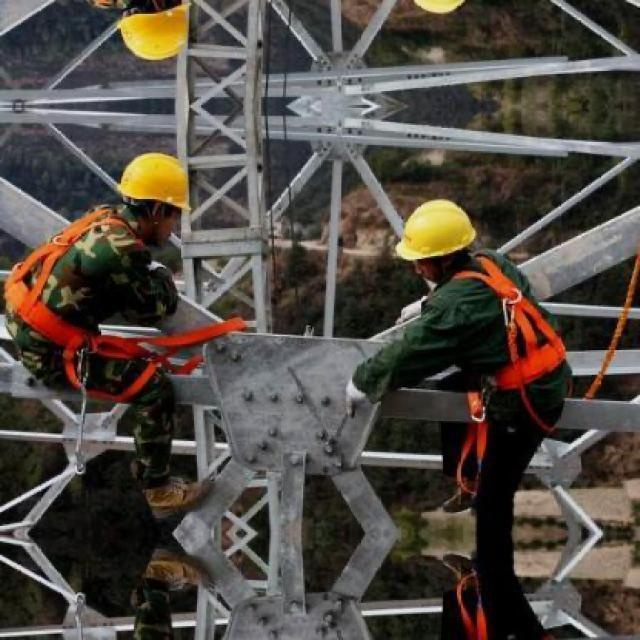Arnes_seguridad: (2, 206, 162, 401), (449, 251, 570, 428)
